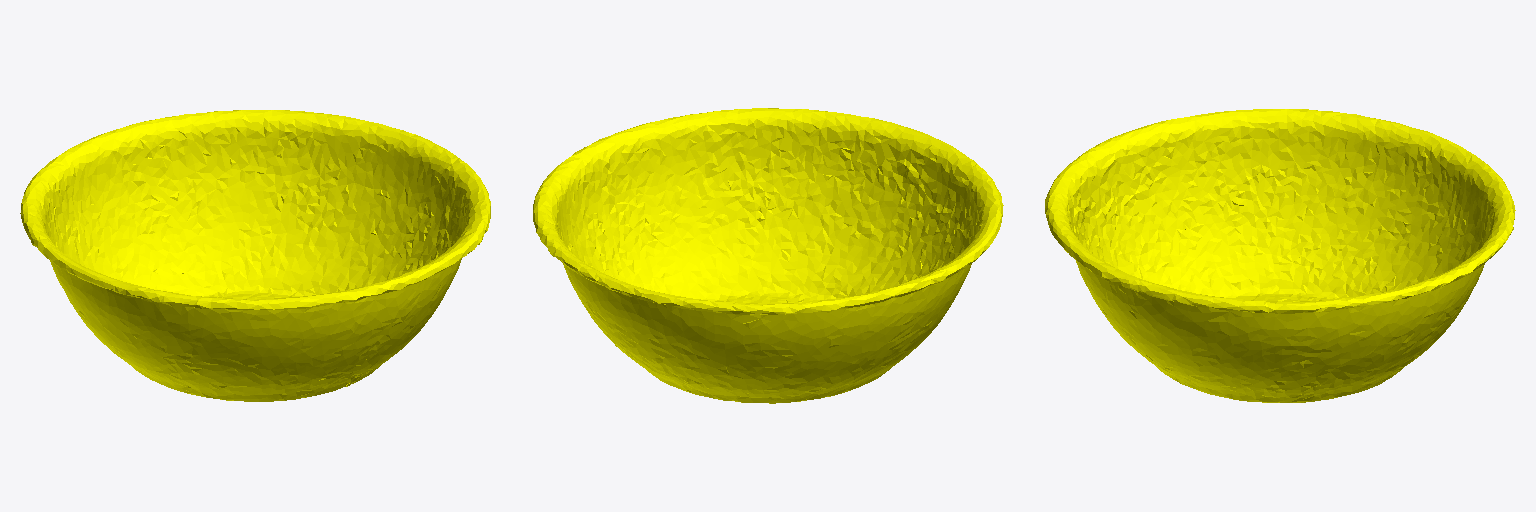
The robot description file, URDF, robot "bowl_yellow":
<robot name="bowl_yellow">
	<link name="_name">
		<visual>
			<origin xyz="0.1474002972935411 0.4386218798850483 -0.54479" rpy="0 0 0" />
			<geometry>
				<mesh filename="bowl_yellow/google_16k/nontextured.obj" scale="10 10 10" />
			</geometry>
			<material name="yellow_color">
                <color rgba="1.0 1.0 0.0 1.0" />
			</material>
		</visual>
		<collision>
			<geometry>
				<mesh filename="bowl_yellow/google_16k/nontextured_vhacd.obj" scale="10 10 10" />
			</geometry>
			<origin xyz="0.1474002972935411 0.4386218798850483 -0.54479" rpy="0 0 0" />
		</collision>
		<inertial>
			<mass value="1.0" />
			<inertia ixx="1.0" ixy="0.0" ixz="0.0" iyy="1.0" iyz="0.0" izz="1.0" />
		</inertial>
	</link>
</robot>

--- What the picture shows (computed from the rendered views, not written in the file) ---
Views: 3 orthographic renders of the robot side by side, from view 1: azimuth 30°, elevation 25°; view 2: azimuth 150°, elevation 25°; view 3: azimuth 270°, elevation 25°.
Robot: bowl_yellow — 1 links, 0 joints (none); root link _name; default pose: all joints at 0.
Links seen in each view (by area): view 1: _name; view 2: _name; view 3: _name.
Link boxes in pixels (x1,y1,x2,y2): _name: [20, 110, 490, 401]; _name: [533, 108, 1003, 403]; _name: [1045, 109, 1515, 402].
Bounding box of the posed robot: 1.61 × 1.61 × 0.5501 m (x, y, z).
Meshes: 1 distinct files referenced, 1 mesh visuals loaded (1 OBJ).